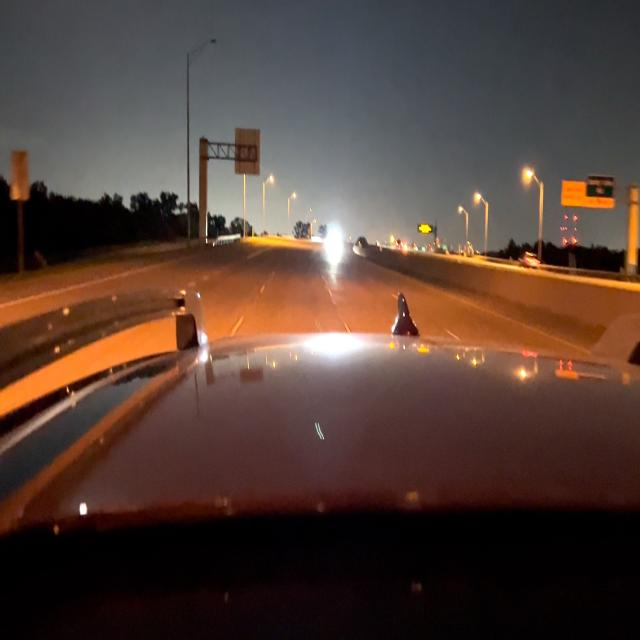back-of-sign: (238, 129, 260, 174), (11, 148, 26, 199)
